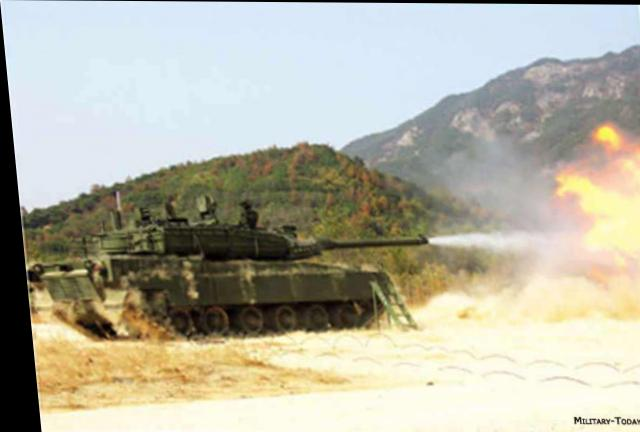other: (227, 182, 258, 235)
tank: (41, 195, 389, 354)
